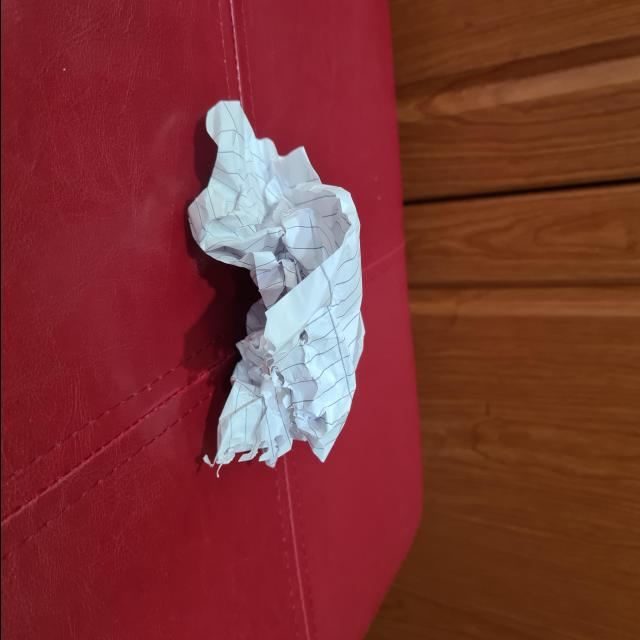kertas: (185, 106, 364, 468)
